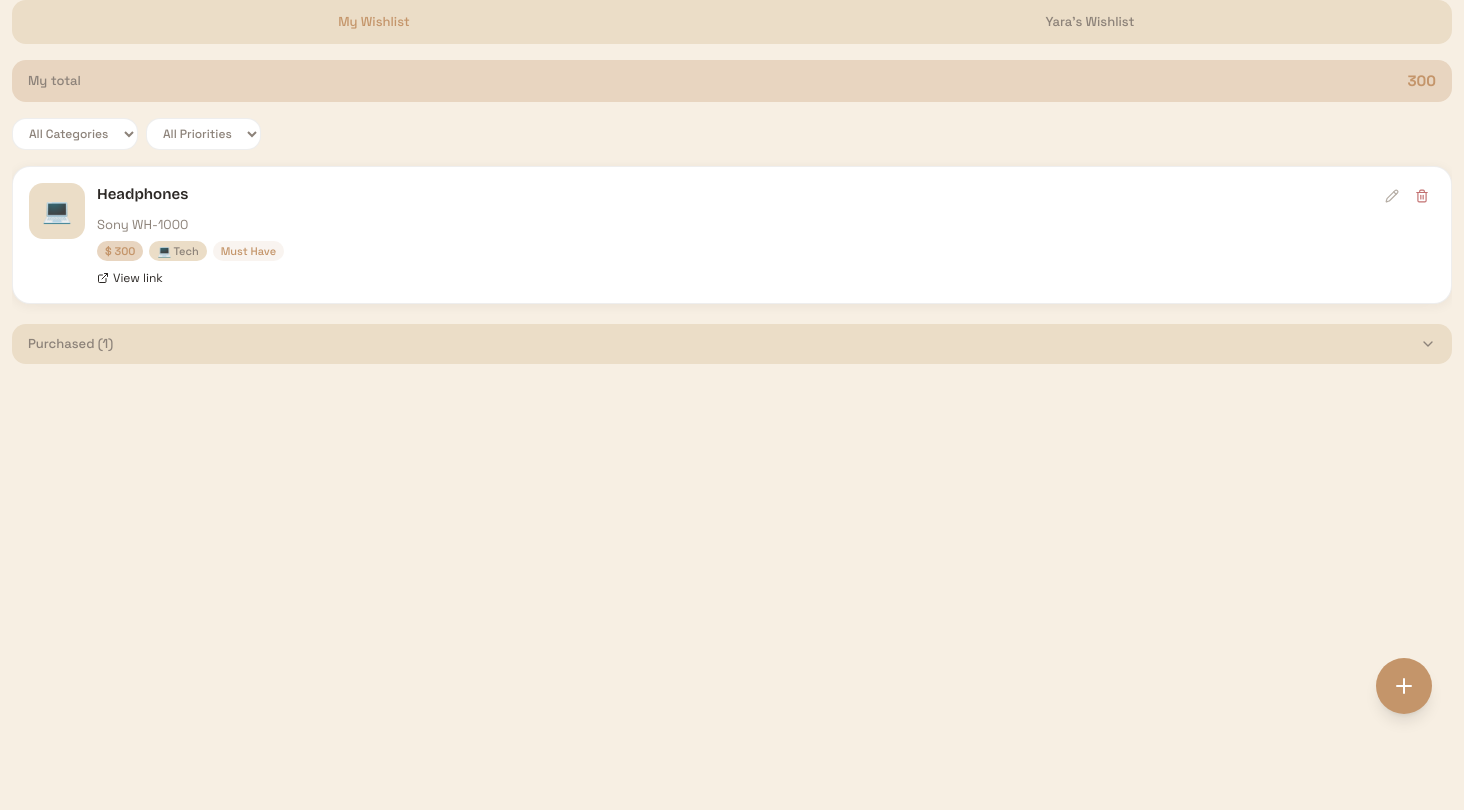
Test: WishlistPage › interaction: filters › filters items by category
The image size is (1464, 810).
Select "Fashion" in the dropdown with test id "category-filter" at (75, 134), box [12, 118, 138, 150]
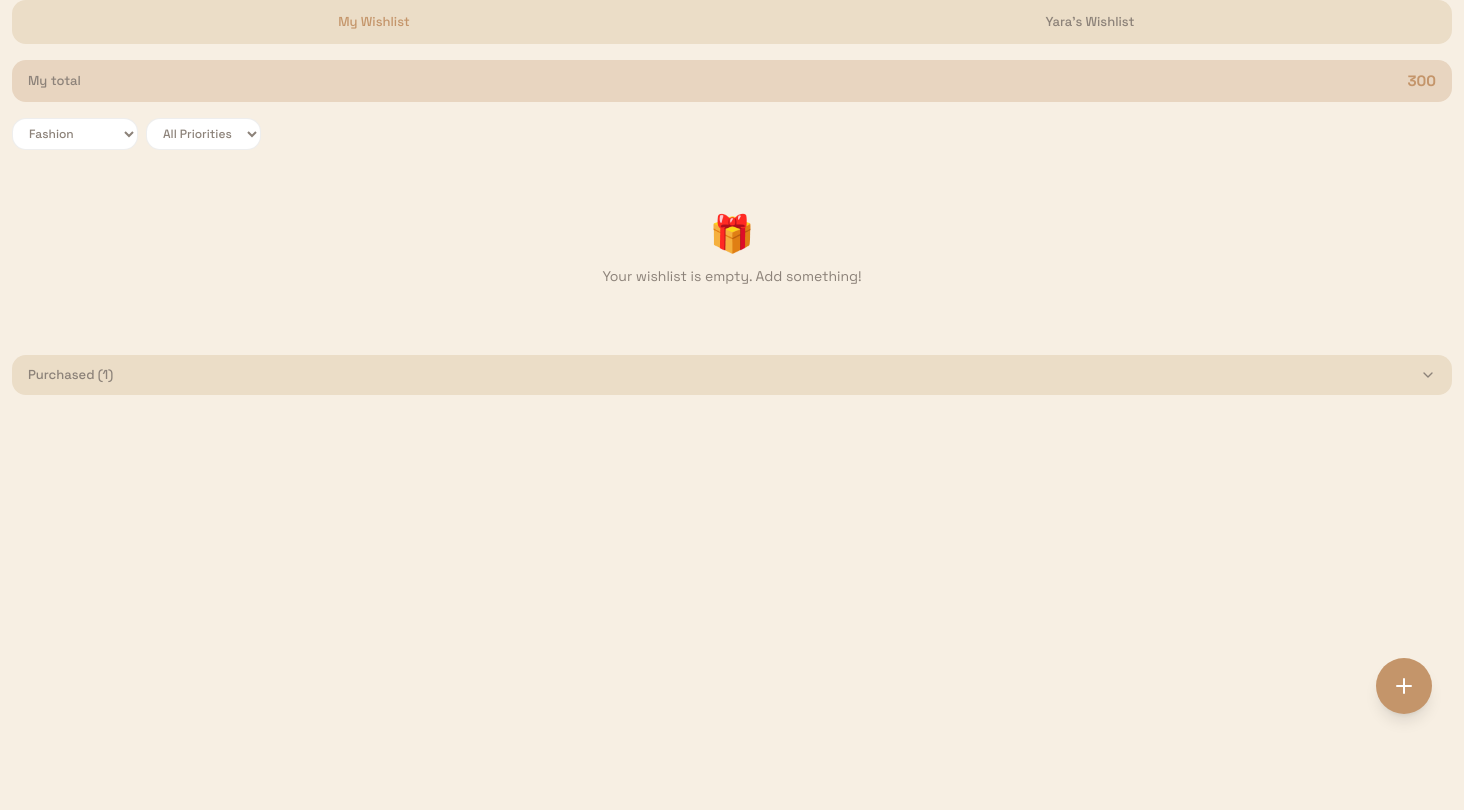
Check: the element with test id "wishlist-empty" is shown, box [602, 211, 862, 285]
